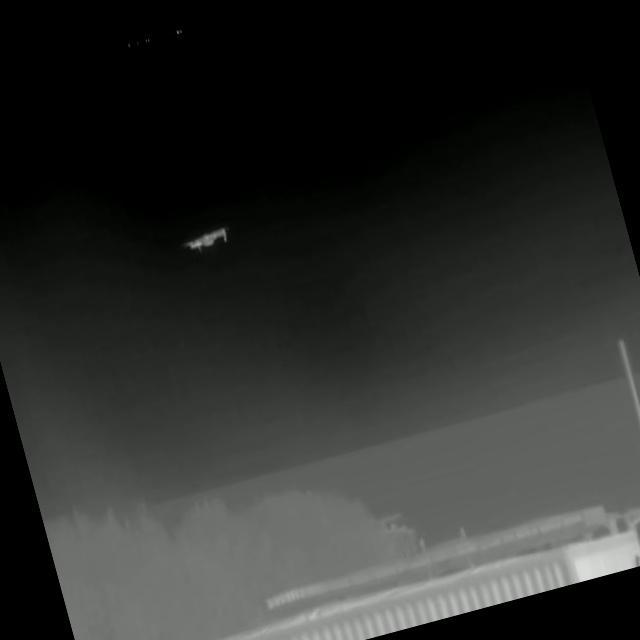DRONE: (171, 214, 242, 266)
